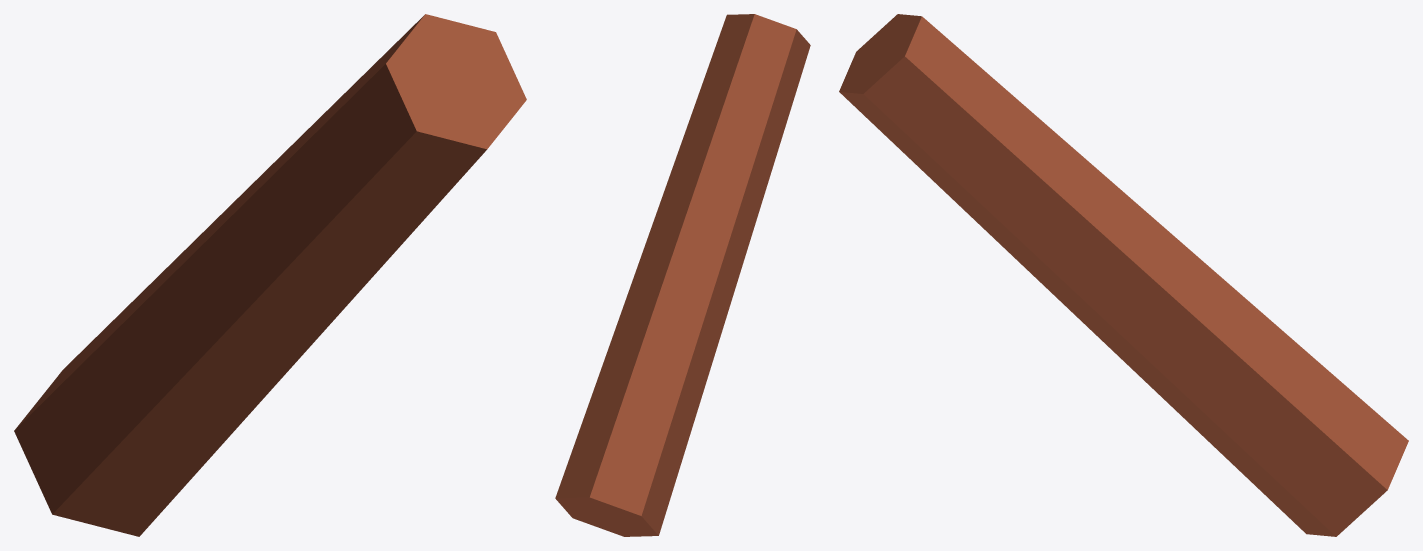
File: rm2_arm_l_fore.obj
The picture shows the model from 3 angles, left to right: view 1: azimuth 30°, elevation 25°; view 2: azimuth 150°, elevation 25°; view 3: azimuth 270°, elevation 25°; orthographic projection. The views are drawn at different scales.
Visible parts, largest first — view 1: rm2_arm_l_fore; view 2: rm2_arm_l_fore; view 3: rm2_arm_l_fore.
Boxes of the visible parts, x1,y1,x2,y2 form: rm2_arm_l_fore: (14, 14, 526, 536); rm2_arm_l_fore: (555, 14, 810, 536); rm2_arm_l_fore: (839, 14, 1408, 536).
Size of the model in its own units: 0.0876 by 0.3429 by 0.3345.
